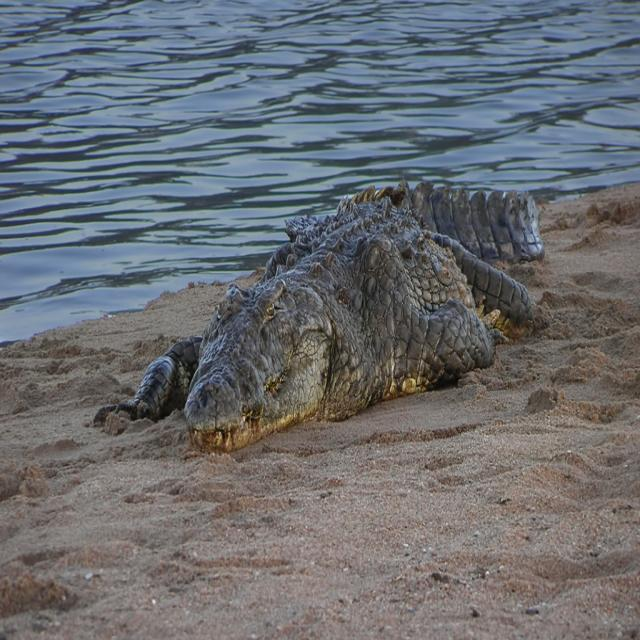crocodile: (86, 155, 581, 467)
